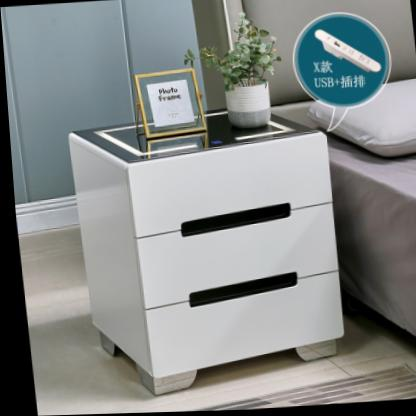Nightstand: (66, 114, 345, 387)
